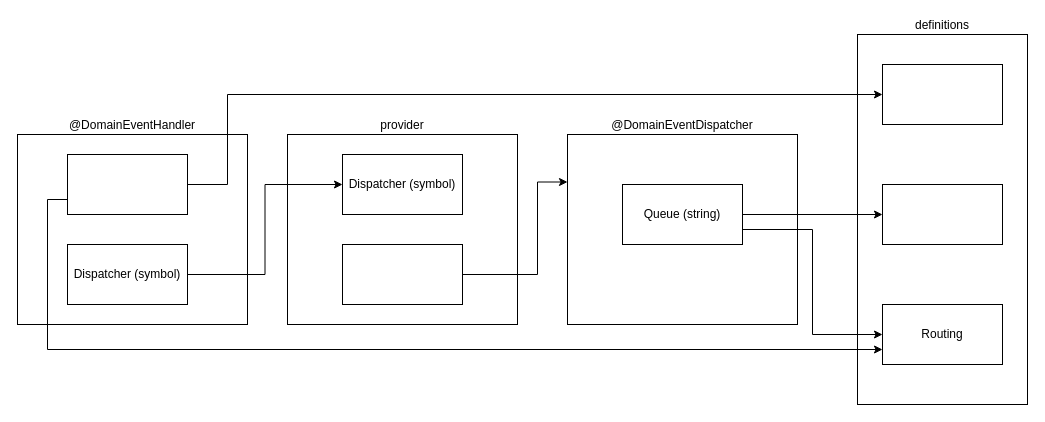
This 1045x422 diagram has some shape labels left out. Here are the shapes that lost their labels. From the top down, the centre of each, then its label:
At (942,94): "Exchange".
At (127,184): "Event (class)".
At (942,214): "Queue".
At (402,274): "Dispatcher (class)".
